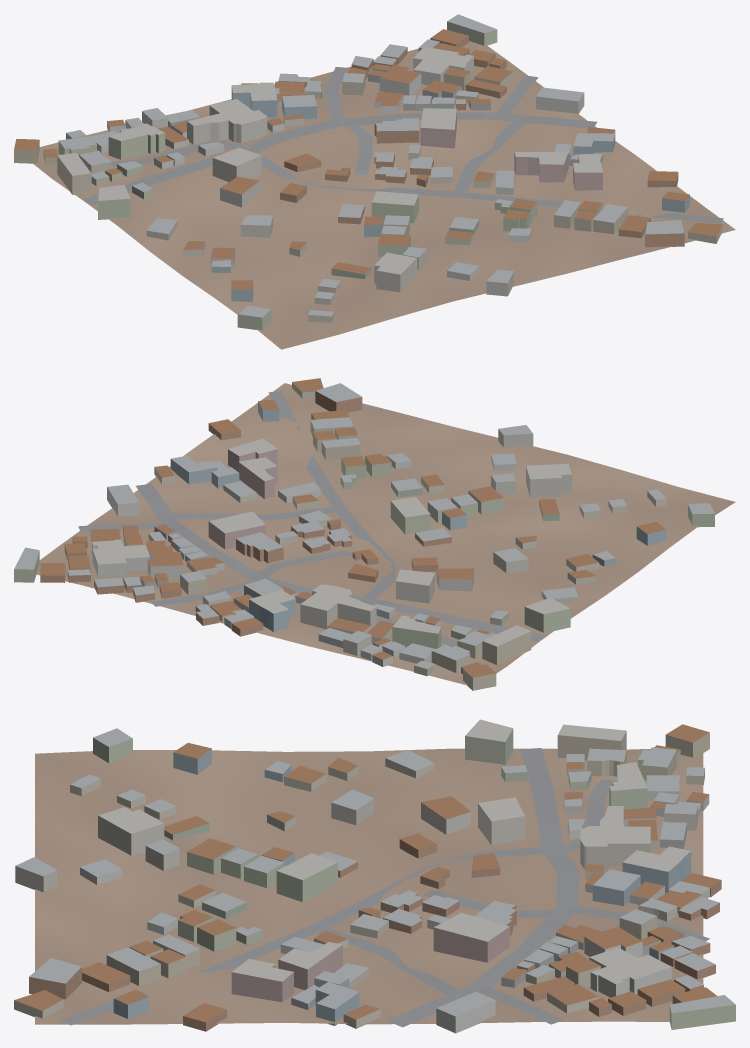
3 views of the same model, one above another, from view 1: azimuth 30°, elevation 25°; view 2: azimuth 150°, elevation 25°; view 3: azimuth 270°, elevation 25° (orthographic). The views are drawn at different scales.
Visible parts, largest first — view 1: Lo; view 2: Lo; view 3: Lo.
Boxes of the visible parts, <box> form: Lo: <box>14,14,735,349</box>; Lo: <box>14,378,735,690</box>; Lo: <box>14,719,735,1033</box>.
Size of the model in its own units: 271 by 14.6 by 277.
